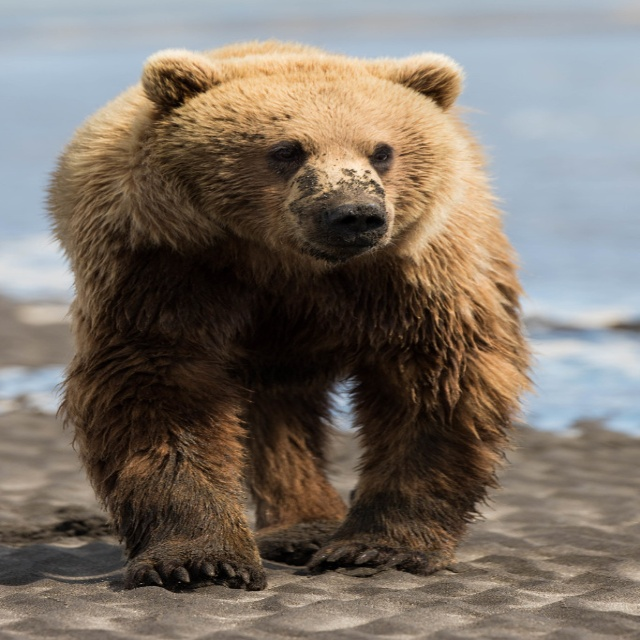Brown bear: (37, 36, 545, 594)
